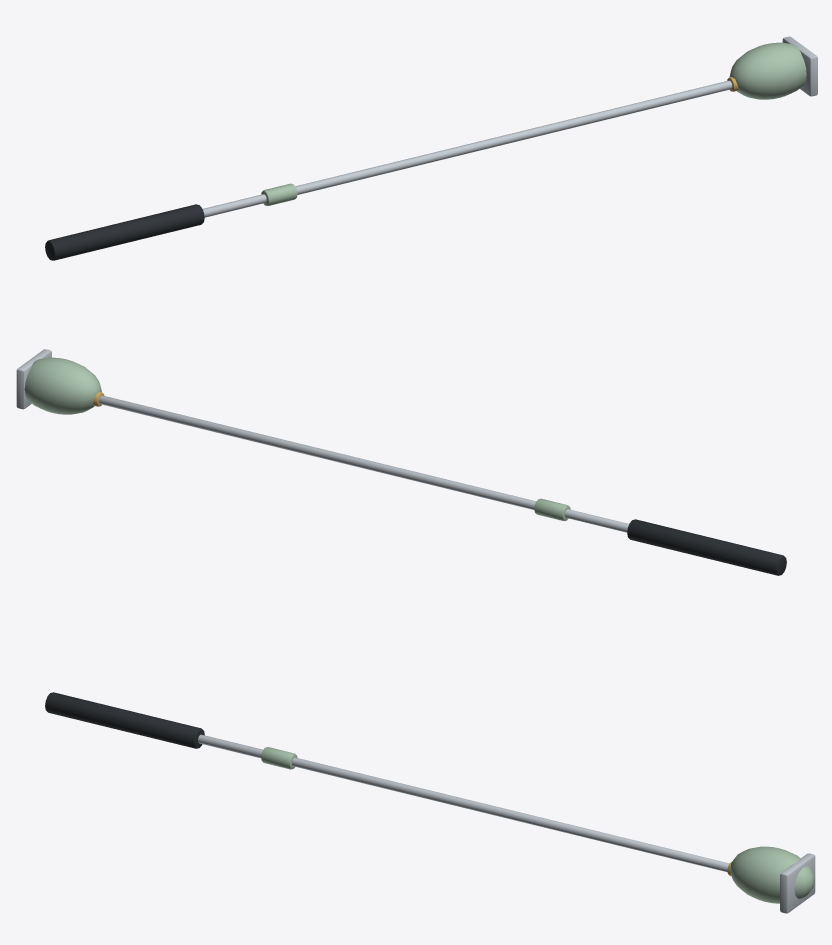
The model's file is checkout_product_driver.glb.
3 renders of one model, top to bottom at view 1: azimuth 30°, elevation 25°; view 2: azimuth 150°, elevation 25°; view 3: azimuth 330°, elevation 25°, orthographic.
Parts seen in each view (by area): view 1: ClubShaft, ClubGrip, DriverHead, DriverFace, SkuAccentBand; view 2: ClubShaft, ClubGrip, DriverHead, DriverFace, SkuAccentBand; view 3: ClubShaft, ClubGrip, DriverHead, DriverFace, SkuAccentBand.
Boxes of the visible parts, x1,y1,x2,y2 form: ClubShaft: [202, 80, 732, 217]; ClubGrip: [45, 204, 204, 260]; DriverHead: [729, 42, 806, 99]; DriverFace: [782, 36, 817, 96]; SkuAccentBand: [261, 183, 297, 205]; ClubShaft: [99, 395, 629, 532]; ClubGrip: [627, 519, 786, 575]; DriverHead: [24, 357, 101, 414]; DriverFace: [16, 349, 51, 409]; SkuAccentBand: [534, 498, 570, 520]; ClubShaft: [198, 734, 729, 872]; ClubGrip: [45, 692, 204, 748]; DriverHead: [730, 846, 814, 903]; DriverFace: [780, 853, 815, 913]; SkuAccentBand: [261, 747, 297, 769].
Size of the model in its own units: 1.19 by 0.1 by 0.12.
